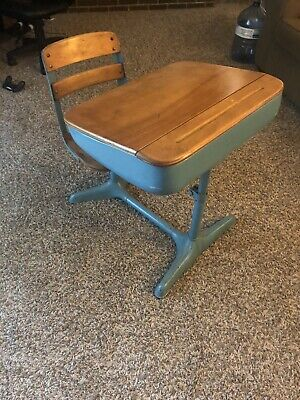desk: (30, 21, 290, 301)
